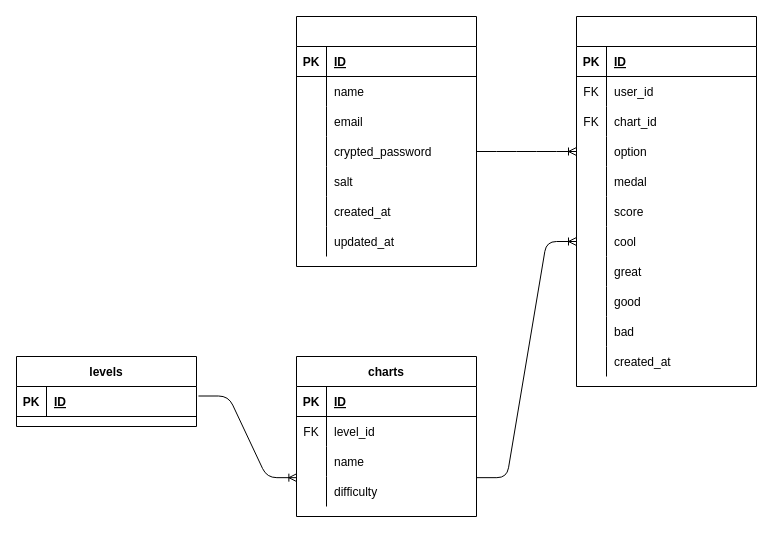
This 773x533 diagram has some shape labels left out. Each missing label, with the box of its shape:
results: (576, 16, 756, 386)
users: (296, 16, 476, 266)
